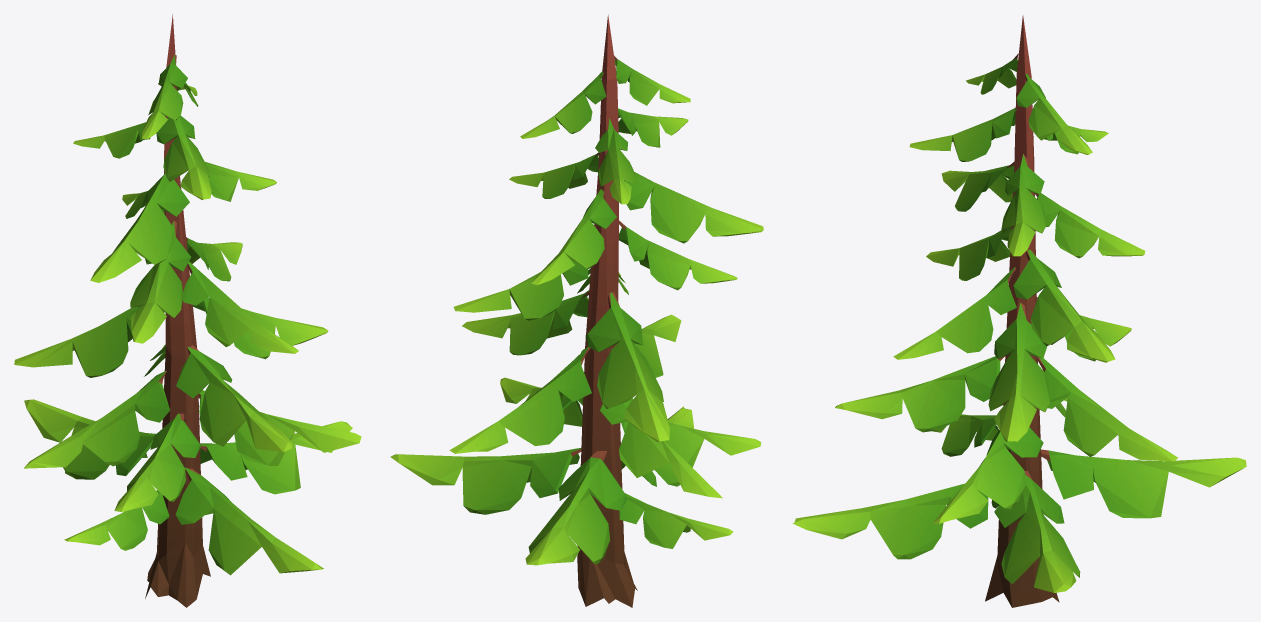
3 renders of one model, left to right at view 1: azimuth 30°, elevation 25°; view 2: azimuth 150°, elevation 25°; view 3: azimuth 270°, elevation 25°, orthographic.
Parts seen in each view (by area): view 1: Conifer1_Low; view 2: Conifer1_Low; view 3: Conifer1_Low.
Part boxes in pixels (box(x1,y1,x2,y2)): Conifer1_Low: box(14, 14, 361, 607); Conifer1_Low: box(390, 14, 763, 607); Conifer1_Low: box(792, 15, 1246, 607).
Size of the model in its own units: 8.4 by 14.26 by 9.92.
1 material, 1 textured.
